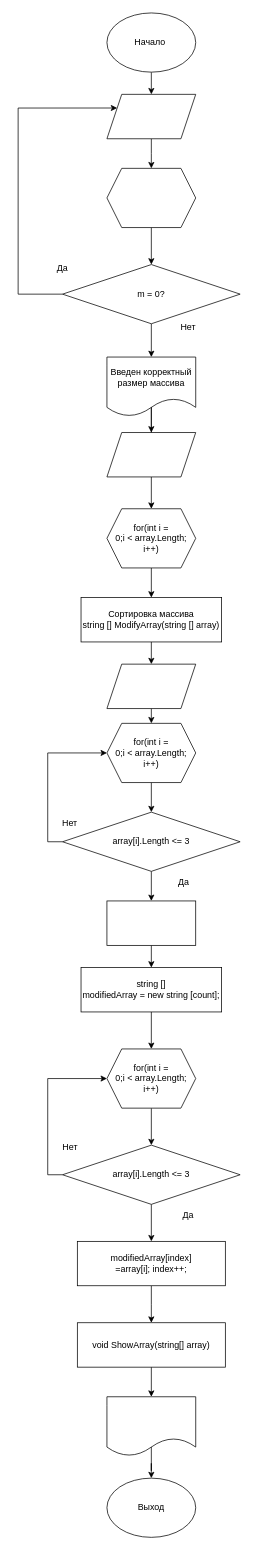
This 253x1550 diagram has some shape labels left out. Each missing label, with the centre of its shape:
"count++" belongs at (151,922).
"do-while(m=0)" belongs at (151,198).
"int count, int index" belongs at (151,686).
"int m - размер массива" belongs at (151,116).
"Ввод элементов массива string [] array" belongs at (151,454).
"Печать массива newModifiedArray" belongs at (151,1426).
